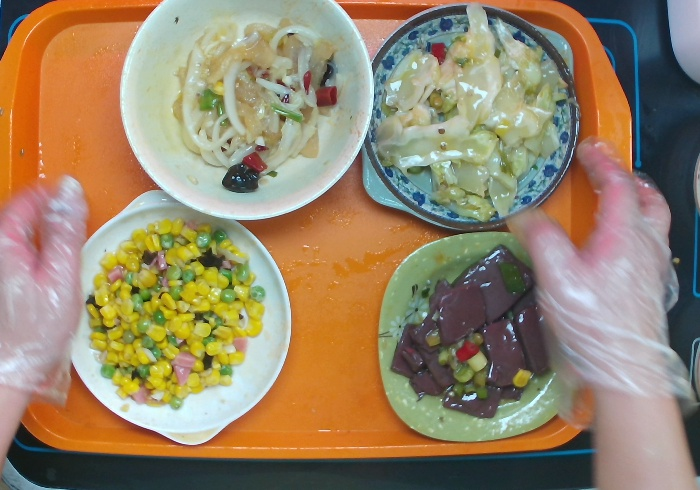NLDX-Bai_Se_Shuang_Er_Die: (65, 189, 295, 449)
NLDX-Bai_Se_Yuan_Wan: (113, 1, 376, 226)
NLDX-Lv_Hua_Fang_Die: (371, 224, 579, 449)
NLDX-Qing_Hua_Shuang_Er_Die: (359, 1, 584, 236)
